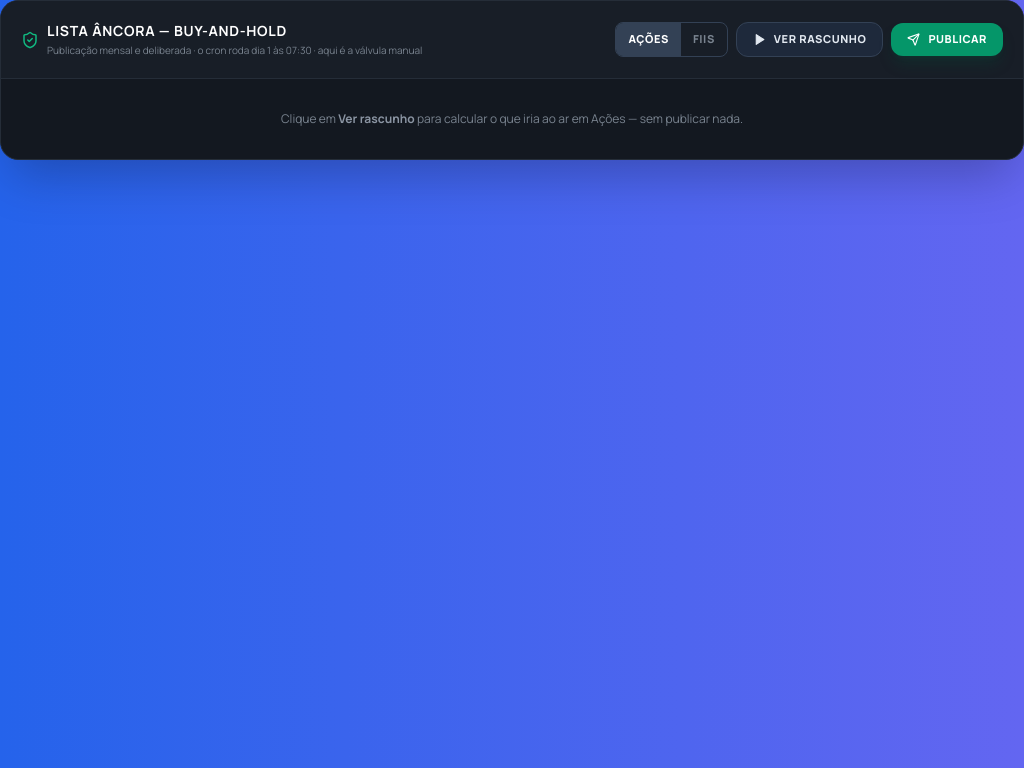
Test case: AnchorPublicationCard › erro do serviço vira mensagem na tela, não publicação silenciosa
This screenshot has width=1024, height=768.
Click the button "Ver rascunho" at (810, 40), box [736,22,883,57]
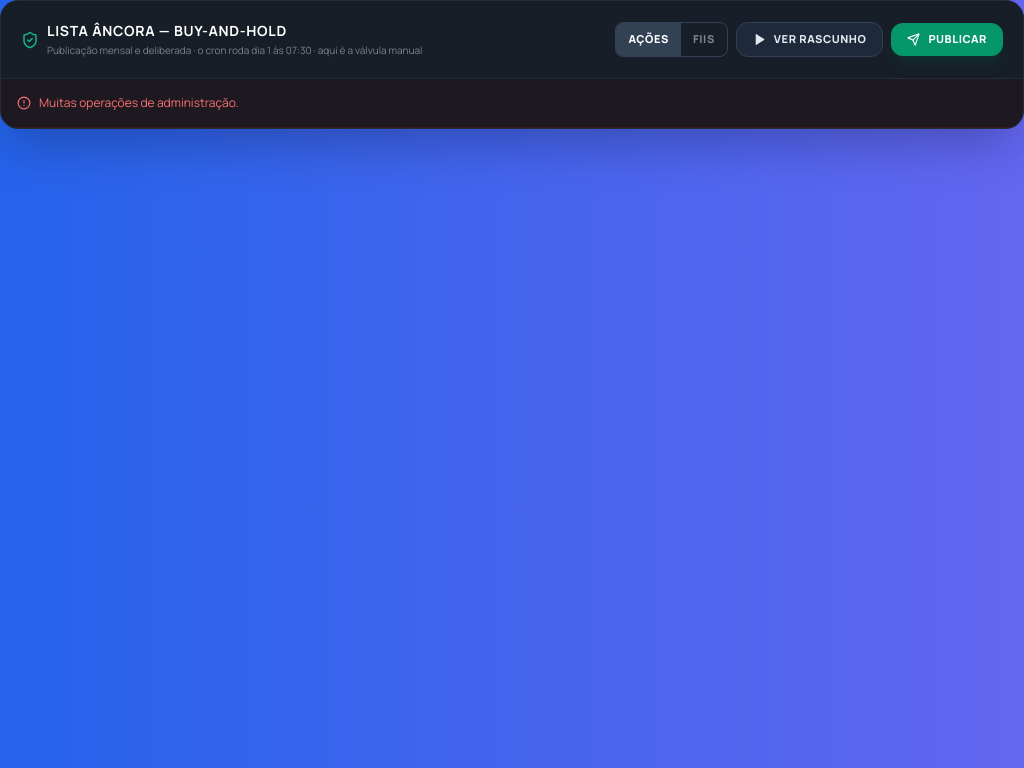
Expected: the text "Muitas operações de administração." is shown, [1,79,1023,128]
